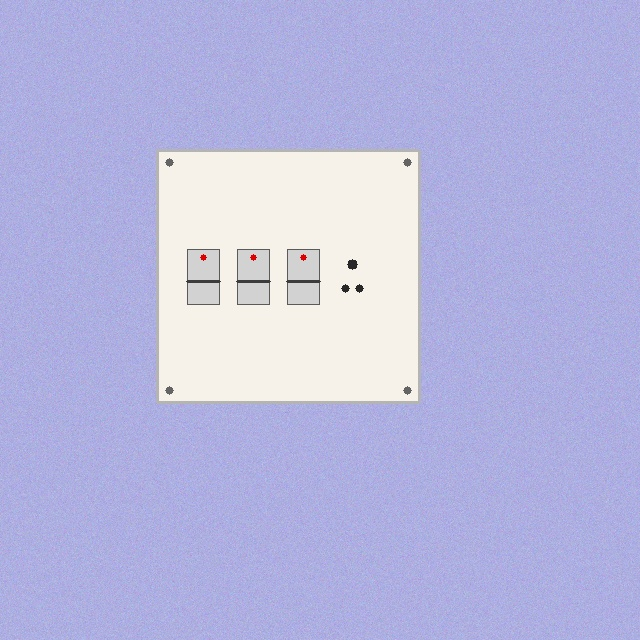switchboard: (157, 150, 419, 402)
